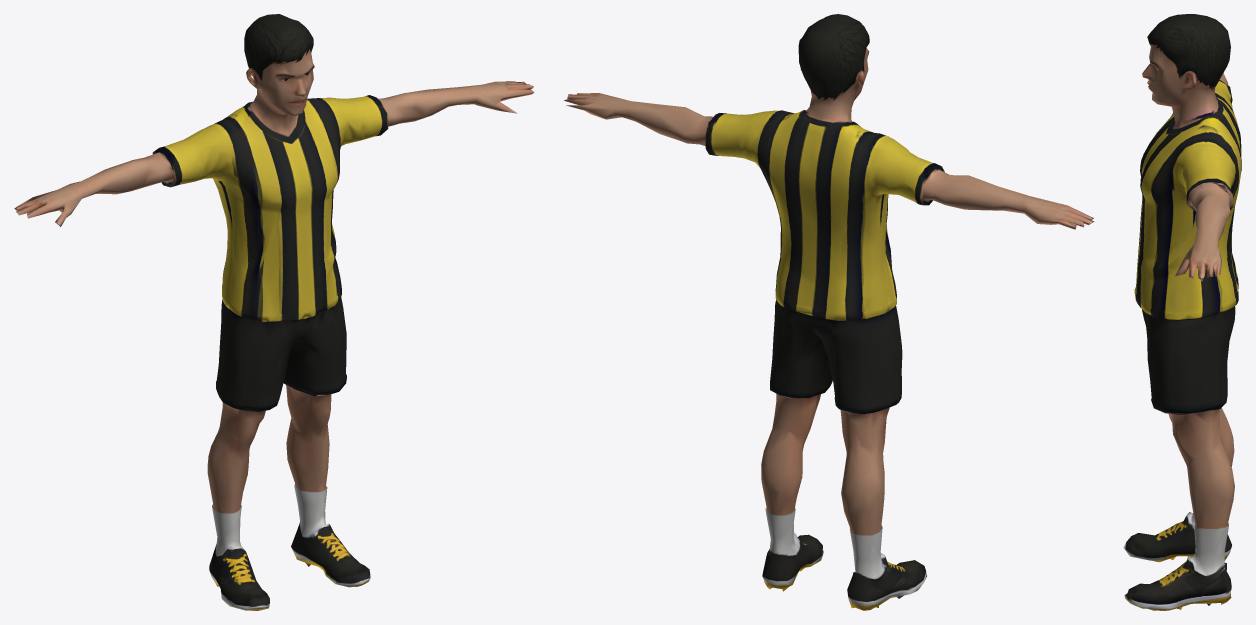
File: fan_teen_upright.glb
The picture shows the model from 3 angles, left to right: view 1: azimuth 30°, elevation 25°; view 2: azimuth 150°, elevation 25°; view 3: azimuth 270°, elevation 25°; orthographic projection.
Visible parts, largest first — view 1: tripo_node_b7702e2c-c541-4af3-bd59-0d3125b02960; view 2: tripo_node_b7702e2c-c541-4af3-bd59-0d3125b02960; view 3: tripo_node_b7702e2c-c541-4af3-bd59-0d3125b02960.
Part boxes in pixels (box(x1,y1,x2,y2)): tripo_node_b7702e2c-c541-4af3-bd59-0d3125b02960: box(14, 14, 534, 610); tripo_node_b7702e2c-c541-4af3-bd59-0d3125b02960: box(564, 14, 1094, 610); tripo_node_b7702e2c-c541-4af3-bd59-0d3125b02960: box(1123, 14, 1241, 610).
Size of the model in its own units: 0.9628 by 1 by 0.1899.
Materials: 1 (1 with a texture image).
